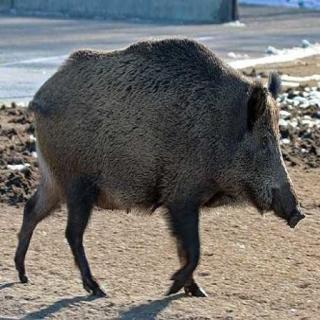Pig: (5, 15, 309, 314)
